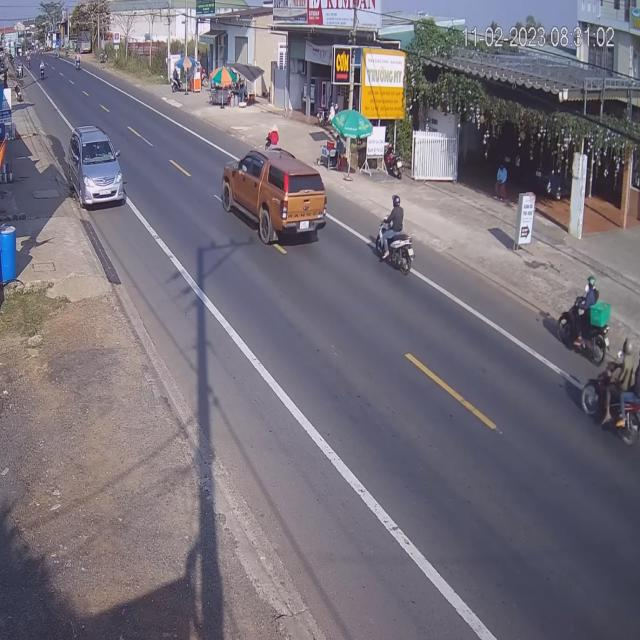car: (224, 150, 331, 247), (66, 126, 126, 210)
motorbike: (585, 332, 640, 444), (558, 278, 611, 364), (372, 199, 413, 280)
